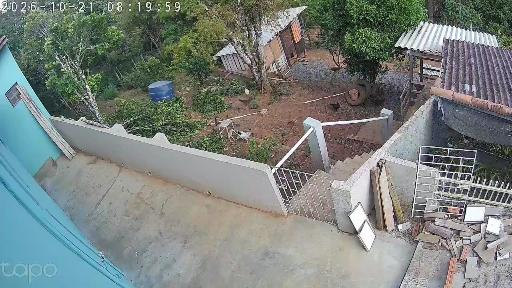galinha: (235, 129, 255, 145), (287, 116, 304, 128), (285, 74, 295, 84), (257, 109, 269, 117), (330, 102, 340, 111), (215, 118, 223, 127)
